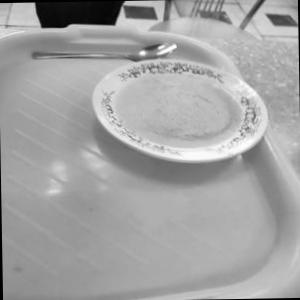porridge: (107, 49, 264, 160)
